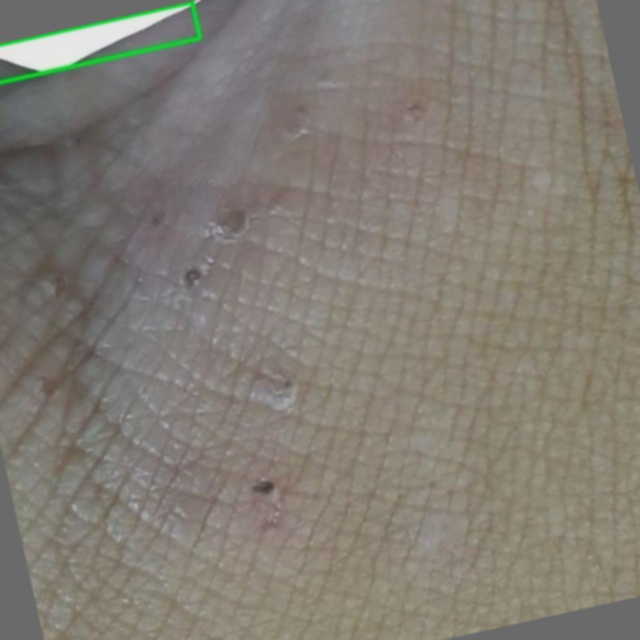Scabies: (0, 2, 201, 82)
